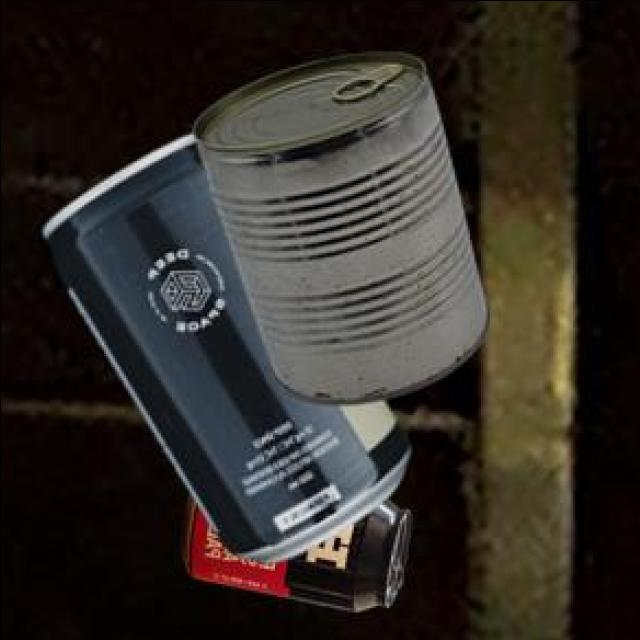logam: (45, 130, 413, 558), (196, 49, 492, 400), (183, 489, 413, 608)
